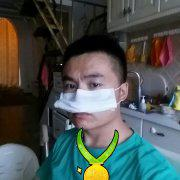WRONG: (58, 70, 121, 132)
